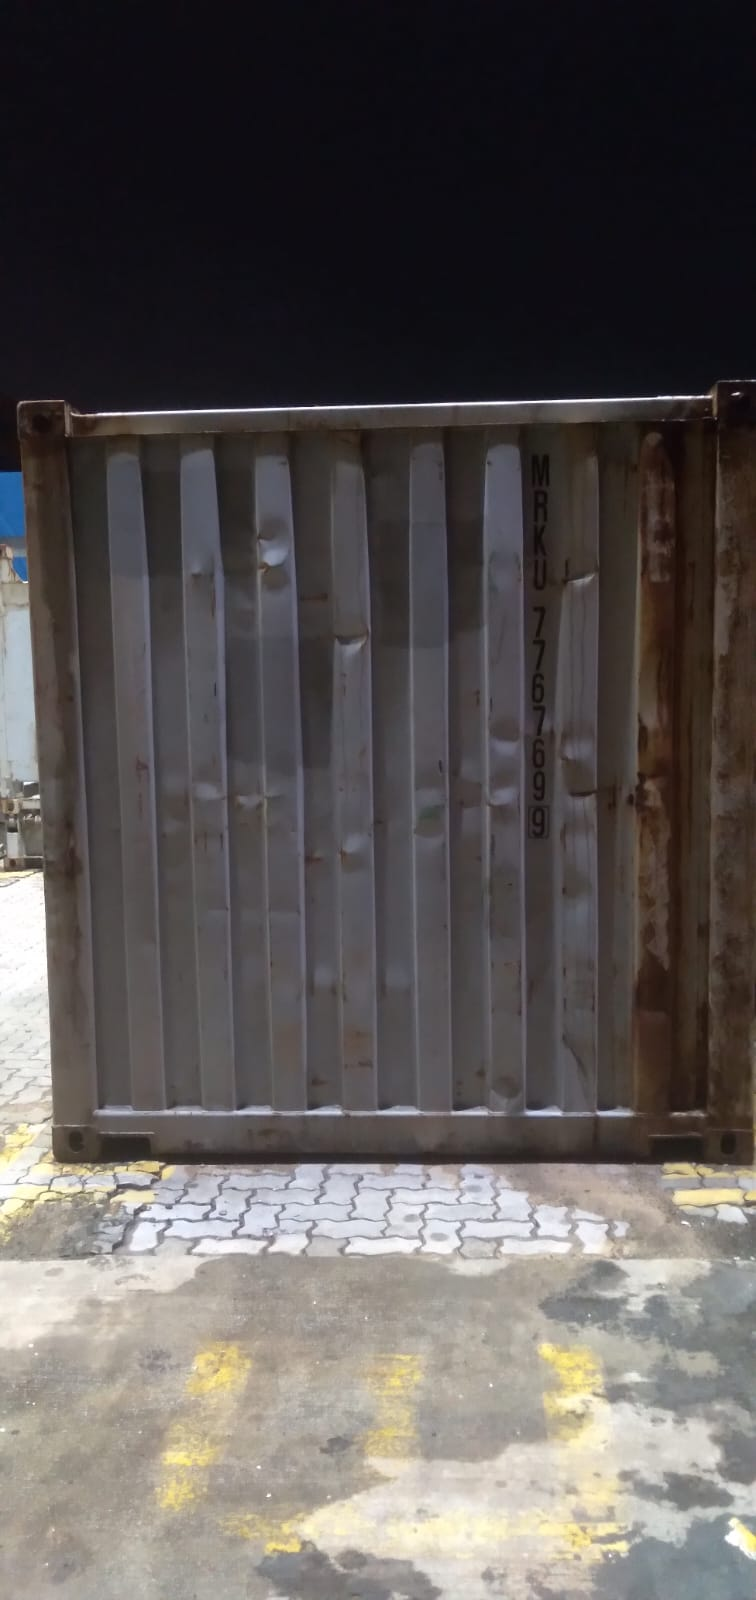dented: (432, 713, 703, 882), (188, 542, 405, 689), (184, 772, 381, 893), (522, 562, 681, 606)
